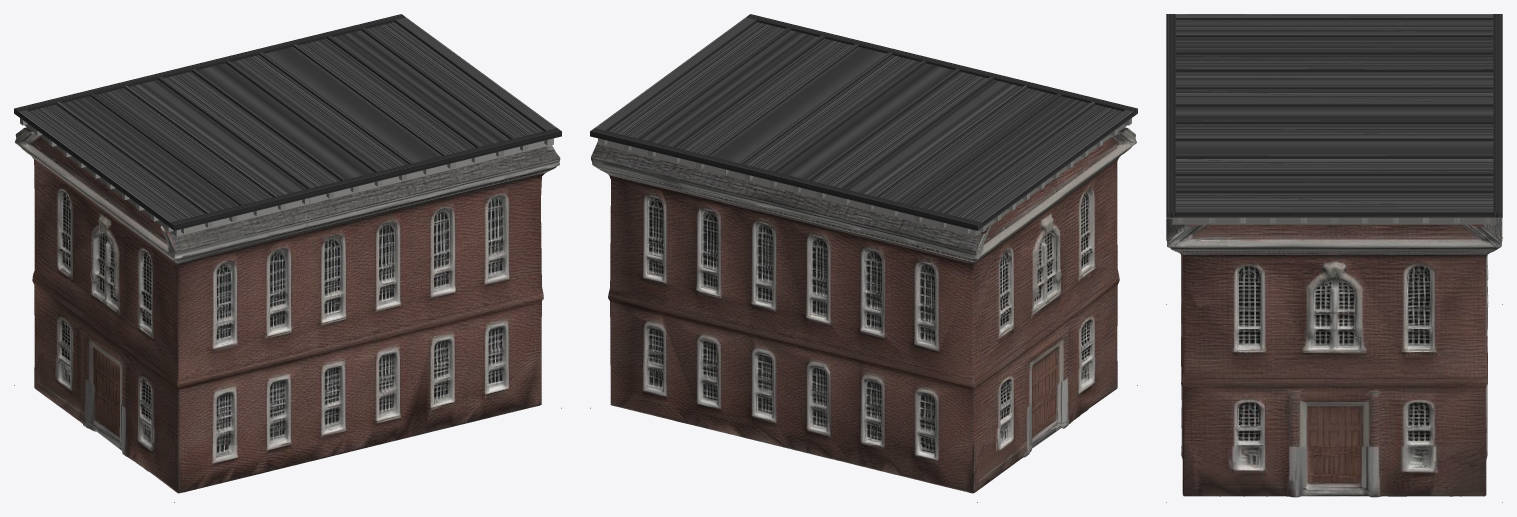
The model's file is bldg-meeting-hollis.glb.
The picture shows the model from 3 angles, left to right: view 1: azimuth 30°, elevation 25°; view 2: azimuth 150°, elevation 25°; view 3: azimuth 270°, elevation 25°; orthographic projection. The views are drawn at different scales.
Visible parts, largest first — view 1: bldg-meeting-hollis; view 2: bldg-meeting-hollis; view 3: bldg-meeting-hollis.
Boxes of the visible parts, x1,y1,x2,y2 form: bldg-meeting-hollis: (14, 14, 561, 502); bldg-meeting-hollis: (590, 14, 1137, 502); bldg-meeting-hollis: (1166, 14, 1502, 502).
Bounding box in the file's own units: 12 × 8.2 × 8.6.
Materials: 1 (1 with a texture image).
